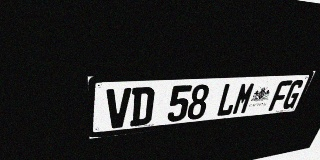5: (167, 85, 192, 122)
8: (186, 84, 212, 120)
D: (130, 87, 155, 127)
F: (268, 80, 293, 111)
G: (281, 80, 305, 110)
L: (215, 83, 241, 117)
M: (231, 82, 257, 115)
V: (106, 88, 131, 129)
